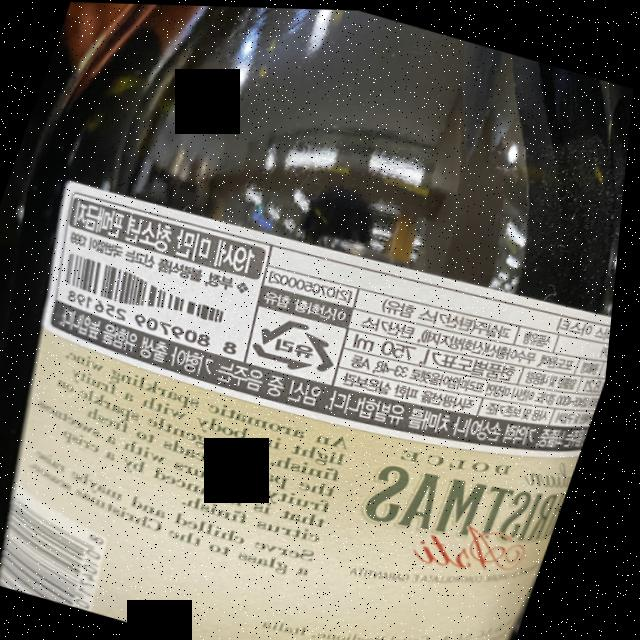Glass: (251, 308, 354, 379)
